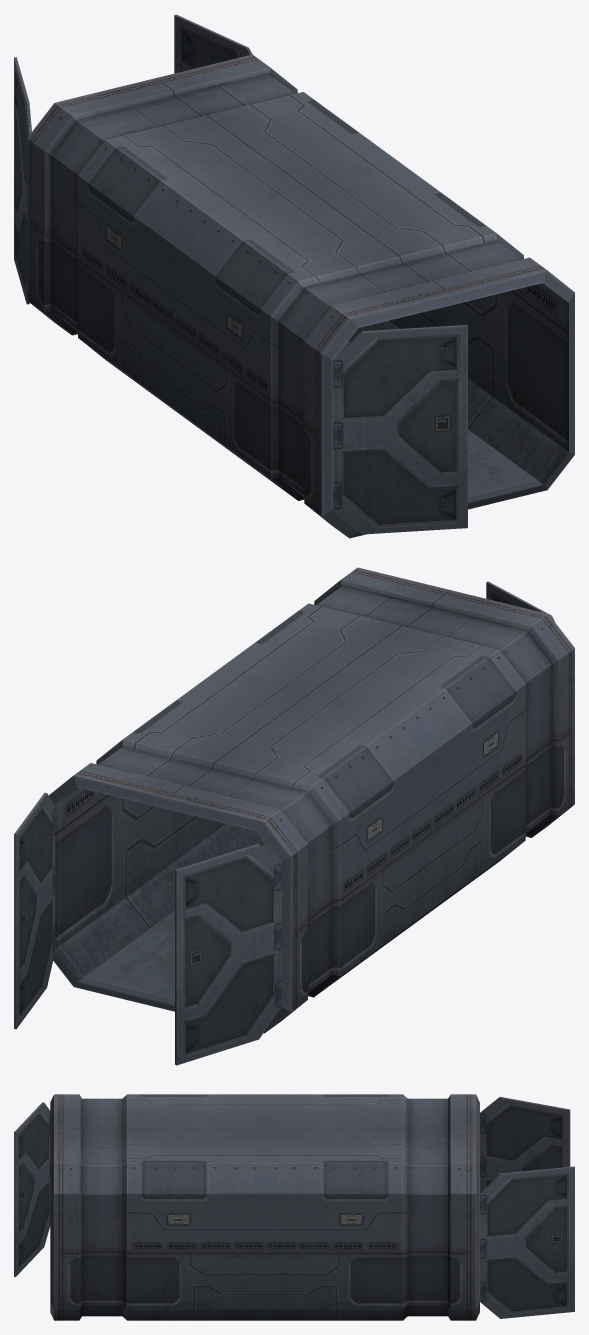
Rendered from Vehicle_Container.glb.
3 renders of one model, top to bottom at view 1: azimuth 30°, elevation 25°; view 2: azimuth 150°, elevation 25°; view 3: azimuth 270°, elevation 25°, orthographic. The views are drawn at different scales.
Parts seen in each view (by area): view 1: tianwang_jzx; view 2: tianwang_jzx; view 3: tianwang_jzx.
Boxes of the visible parts, x1=… form: tianwang_jzx: x1=14, y1=14, x2=574, y2=538; tianwang_jzx: x1=14, y1=567, x2=574, y2=1065; tianwang_jzx: x1=14, y1=1094, x2=574, y2=1320.
Size of the model in its own units: 3.84 by 3.19 by 10.32.
Materials: 1 (1 with a texture image).
